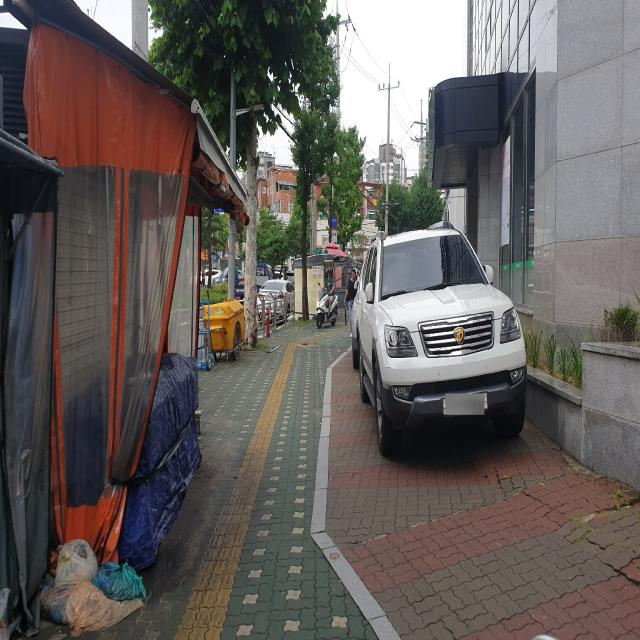car: (356, 222, 527, 460)
motorbike: (317, 283, 338, 329)
